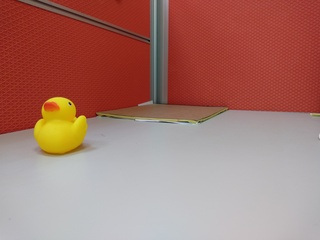duck: (25, 94, 94, 160)
